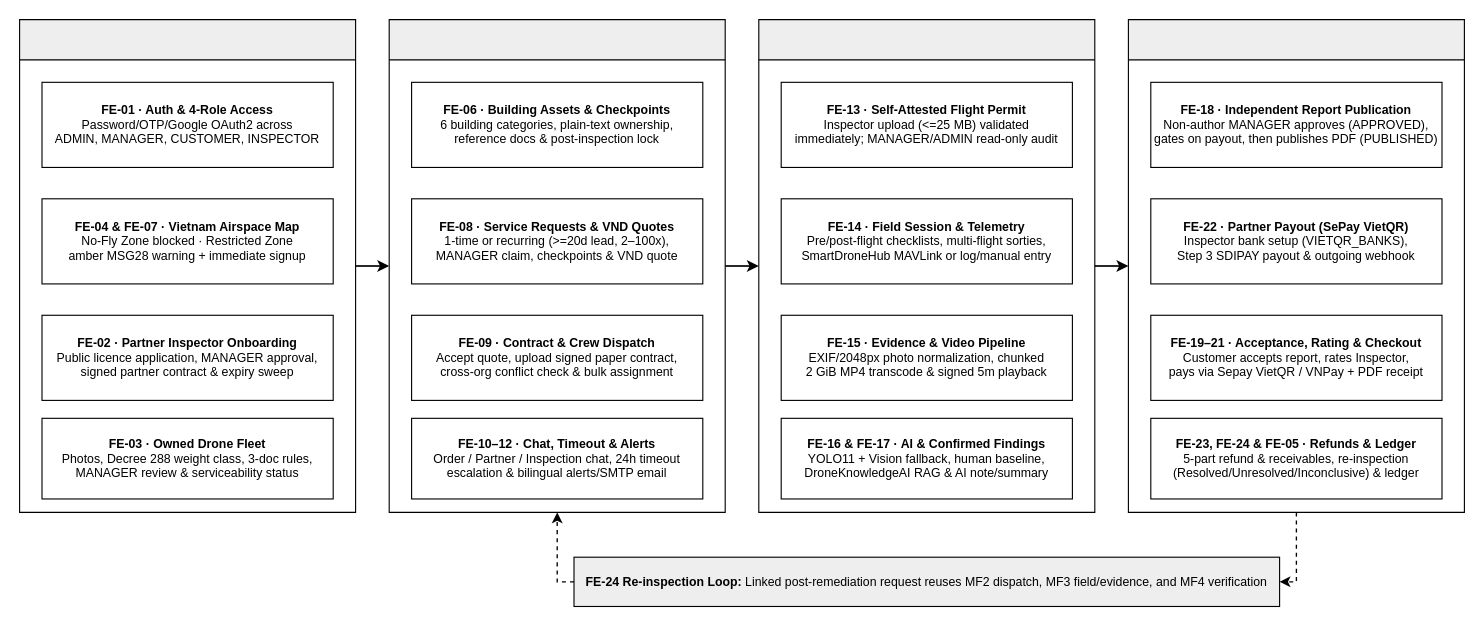
Image size: 1484x626. Some labels were removed from this diagram. Here are the shapes that lost their labels. From the top down, the box of each, then its label:
(18, 18, 356, 512): MF1 · Identity, Airspace & Readiness
(388, 18, 725, 512): MF2 · Buildings, Commercial & Dispatch
(758, 18, 1095, 512): MF3 · Permit, Field Work & AI Analysis
(1127, 18, 1464, 512): MF4 · Reporting, Payout & Settlement
